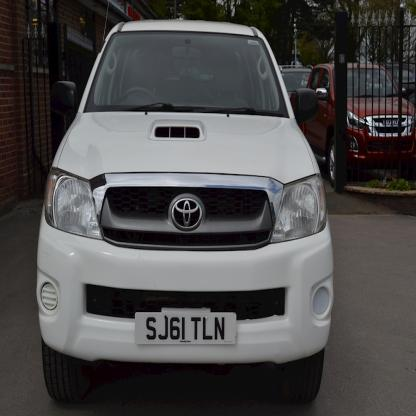light_vehicle: (26, 14, 342, 405)
